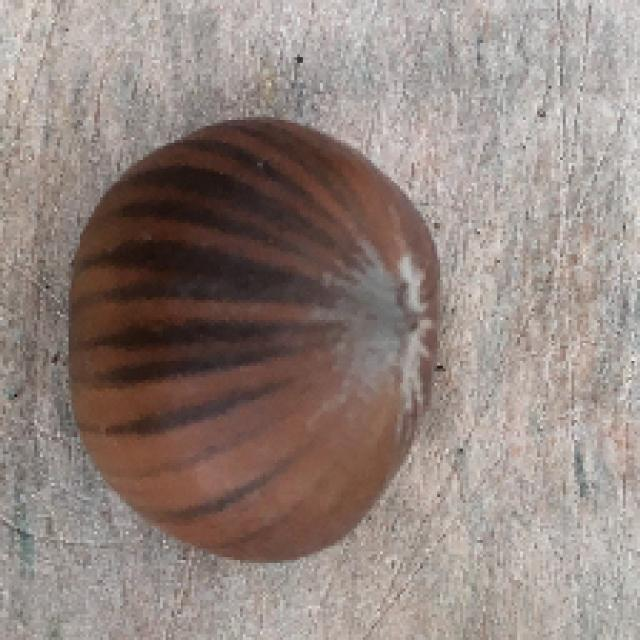damagedHazelnut: (65, 112, 451, 566)
